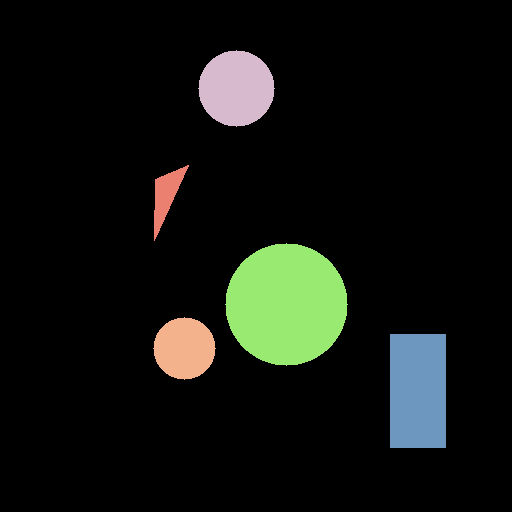circle: (225, 243, 347, 365), (198, 50, 274, 126), (153, 317, 215, 379)
rectangle: (390, 334, 445, 447)
triangle: (154, 165, 188, 240)
